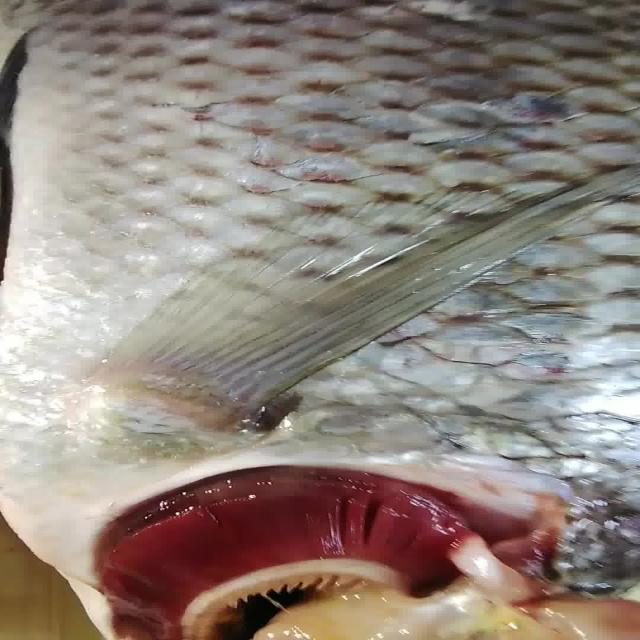Fresh: (53, 466, 526, 632)
